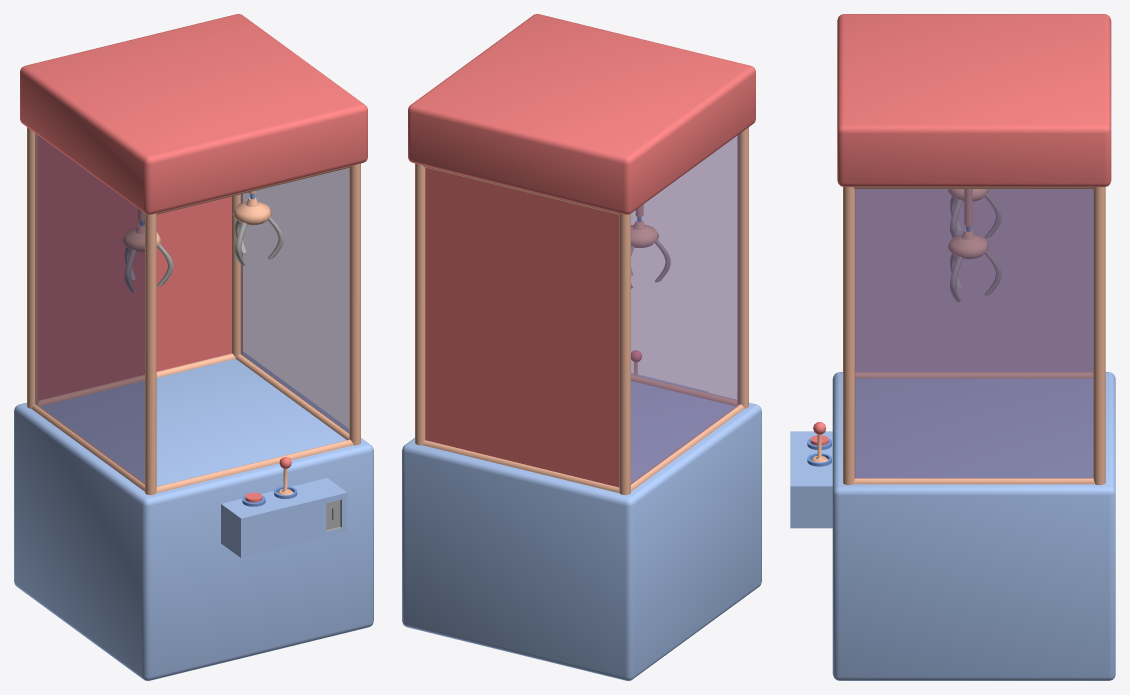
File: claw machine.fbx
The picture shows the model from 3 angles, left to right: view 1: azimuth 30°, elevation 25°; view 2: azimuth 150°, elevation 25°; view 3: azimuth 270°, elevation 25°; orthographic projection. The views are drawn at different scales.
Parts seen in each view (by area): view 1: Cube.022, Cylinder.007; view 2: Cube.022, Cylinder.004; view 3: Cube.022, Cylinder.007.
Boxes of the visible parts, x1,y1,x2,y2 form: Cube.022: [14, 14, 373, 680]; Cylinder.007: [232, 193, 272, 225]; Cube.022: [402, 14, 761, 680]; Cylinder.004: [631, 217, 658, 247]; Cube.022: [790, 14, 1115, 680]; Cylinder.007: [948, 226, 988, 258].
Bounding box in the file's own units: 4.27 × 9.22 × 4.91.
